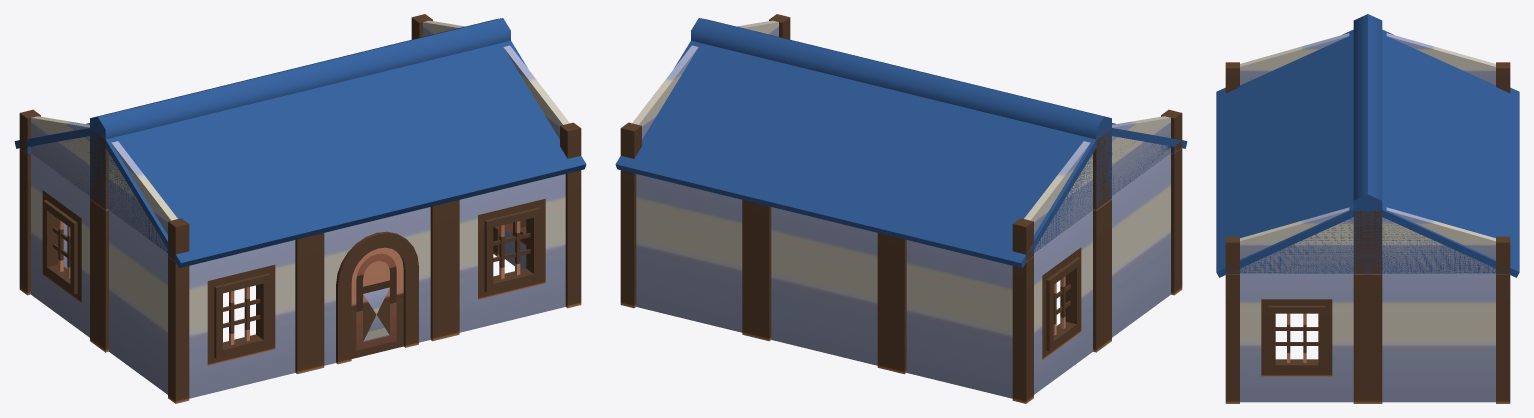
The model's file is maison-bois-3.glb.
3 views of the same model, side by side, from view 1: azimuth 30°, elevation 25°; view 2: azimuth 150°, elevation 25°; view 3: azimuth 270°, elevation 25° (orthographic). The views are drawn at different scales.
Parts seen in each view (by area): view 1: wall-window-shutters, roof; view 2: wall-window-shutters, roof; view 3: roof, wall-window-shutters.
Boxes of the visible parts, x1,y1,x2,y2 form: wall-window-shutters: (19, 14, 581, 403); roof: (14, 18, 586, 267); wall-window-shutters: (620, 14, 1182, 403); roof: (615, 18, 1187, 267); roof: (1216, 14, 1519, 277); wall-window-shutters: (1225, 33, 1510, 403).
Bounding box in the file's own units: 9 × 4.88 × 6.4.
Materials: 2 (1 with a texture image).
